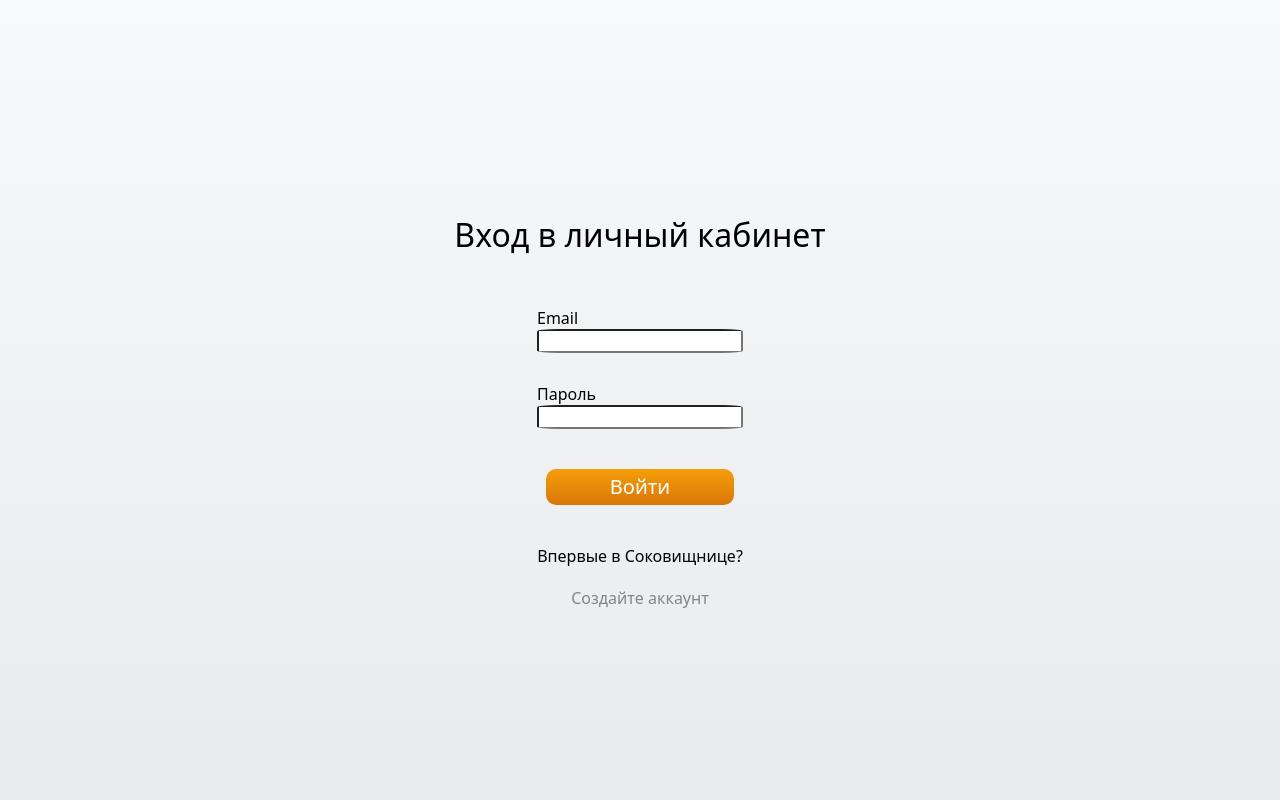
Test case: LoginPage › shows 'Неверные данные' on 422 error
Type "a@b.ru" into the field labelled "Email".
click(640, 341); type("a@b.ru")  # box x1=537 y1=329 x2=743 y2=353
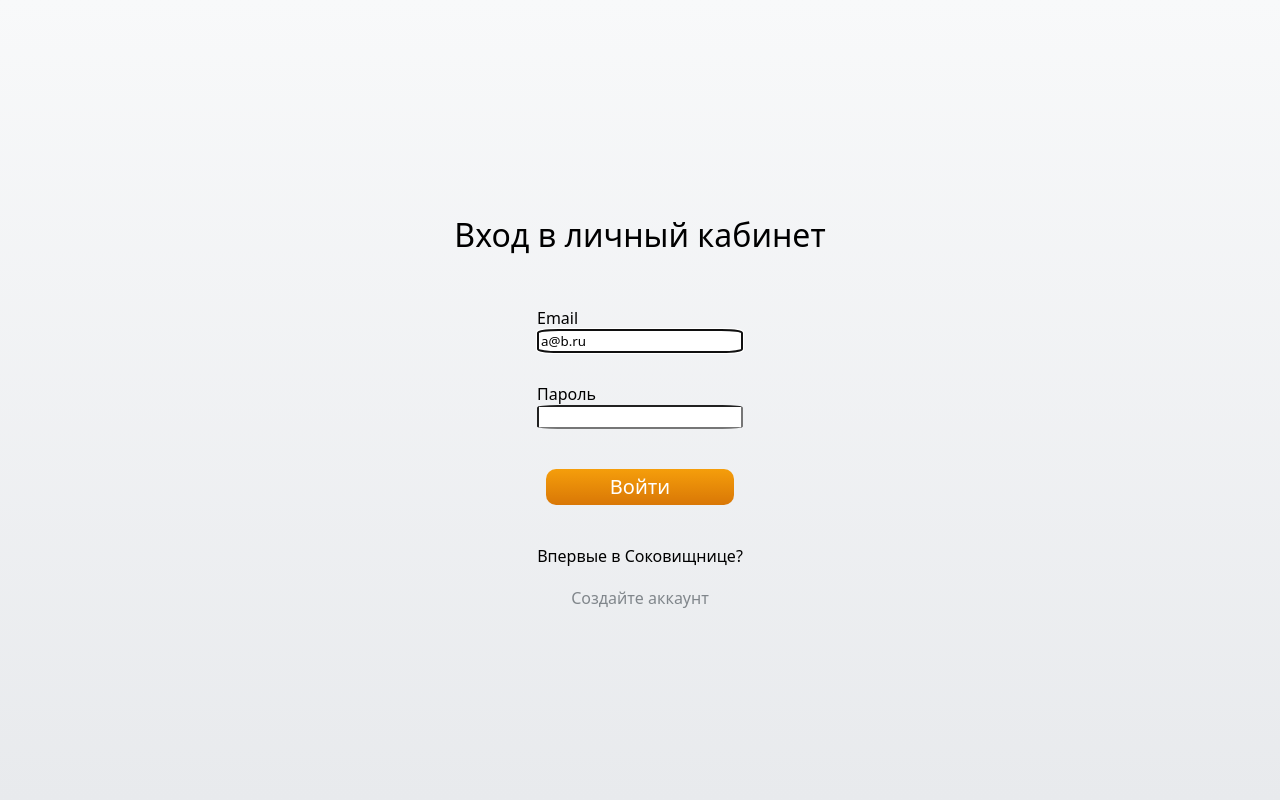
Type "bad" into the field labelled "Пароль".
click(640, 417); type("bad")  # box x1=537 y1=405 x2=743 y2=429
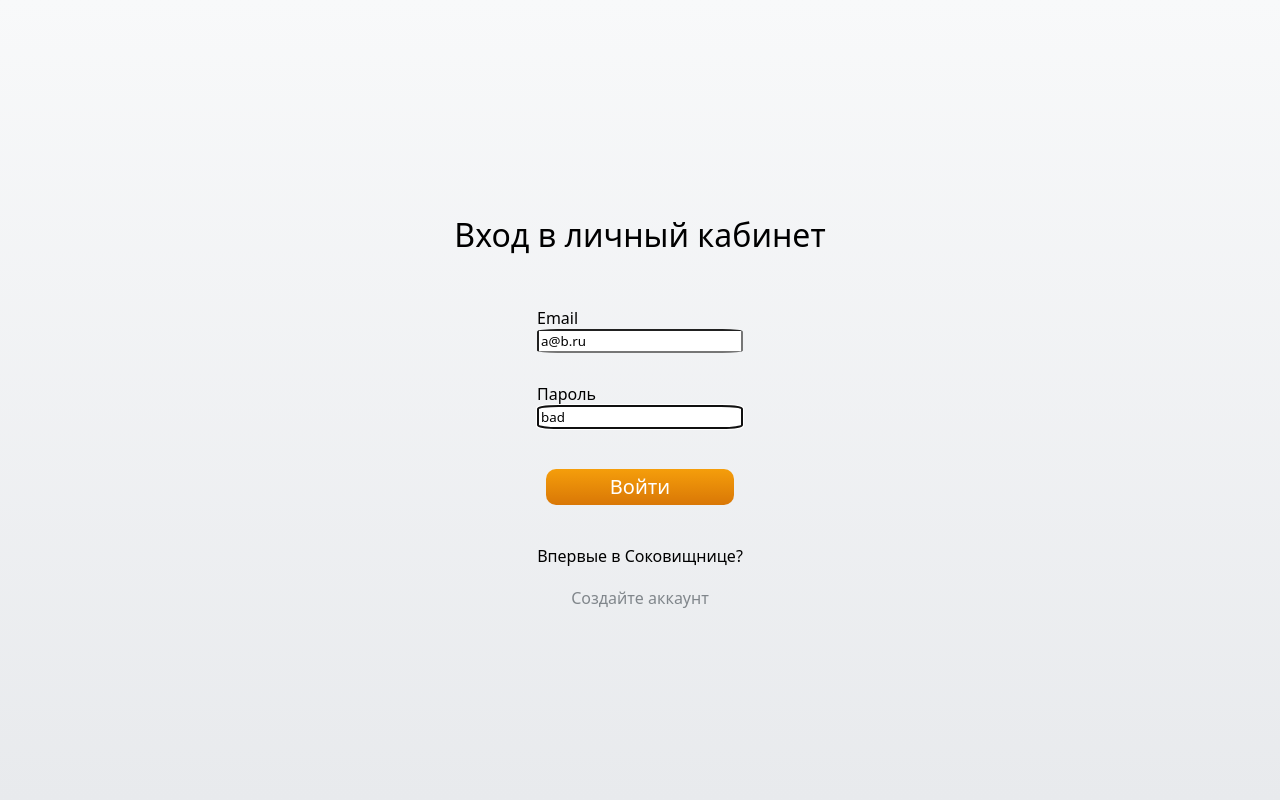
Click the button "Войти".
click(640, 487)  # box x1=546 y1=469 x2=734 y2=505
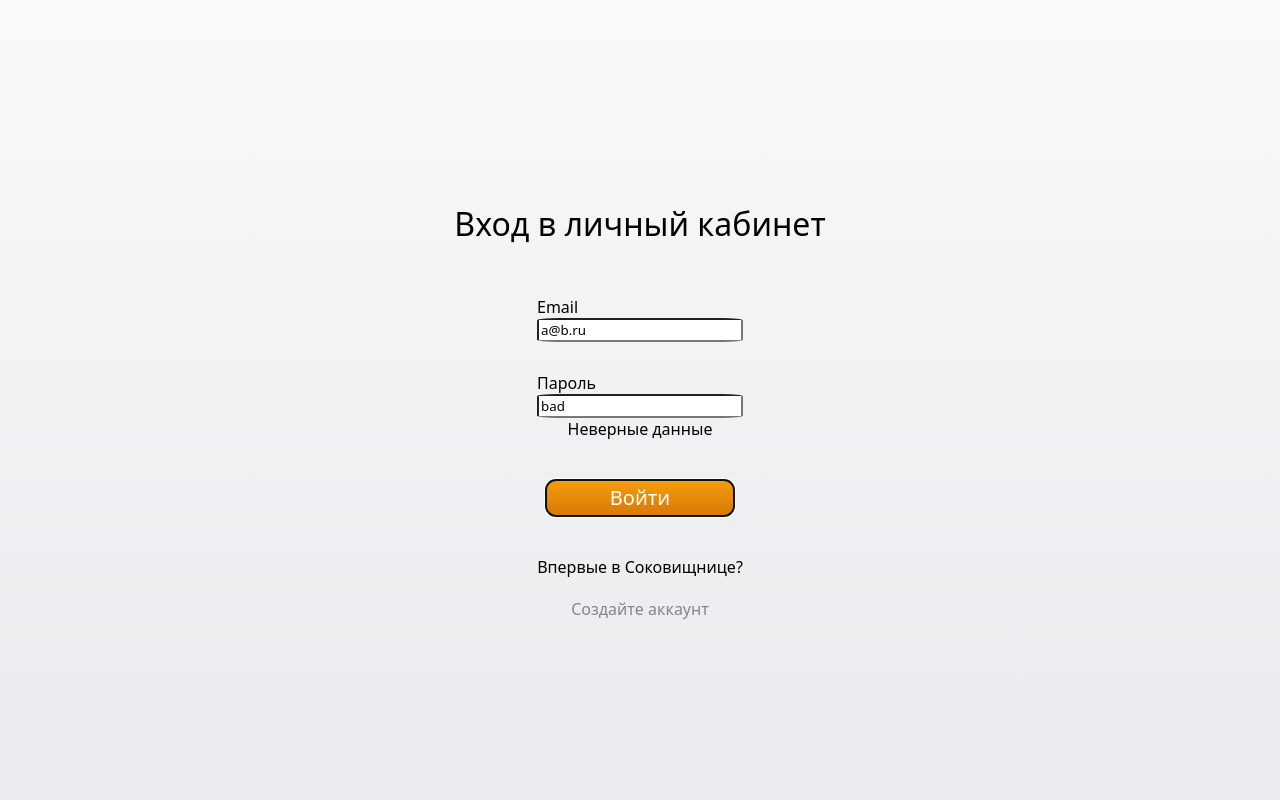
Expected: the text "Неверные данные" is shown, x1=568 y1=418 x2=712 y2=440
